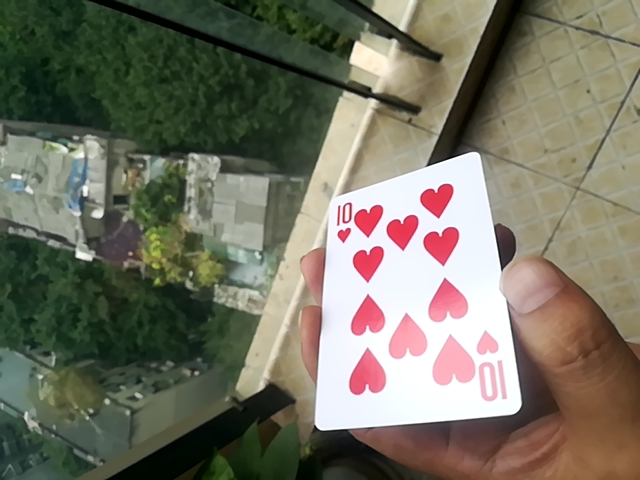hx 10: (313, 154, 517, 433)
